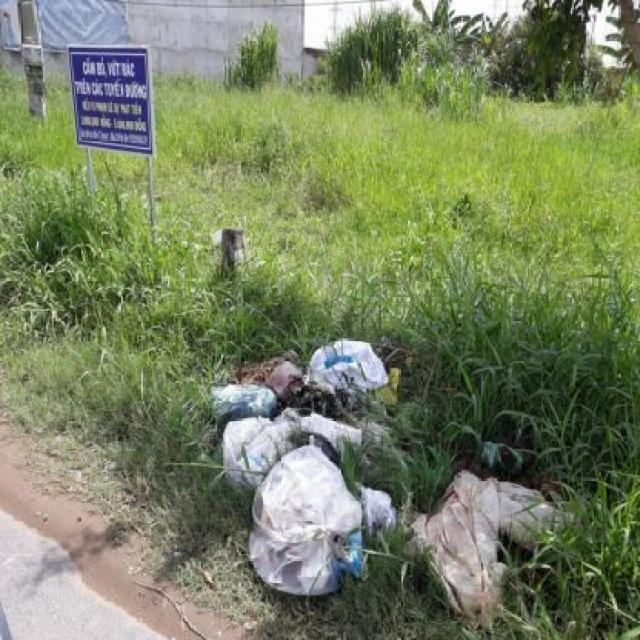plastic bag: (198, 318, 596, 638), (397, 471, 581, 617), (246, 444, 368, 590), (217, 423, 301, 482), (308, 337, 389, 391), (210, 379, 278, 423)
